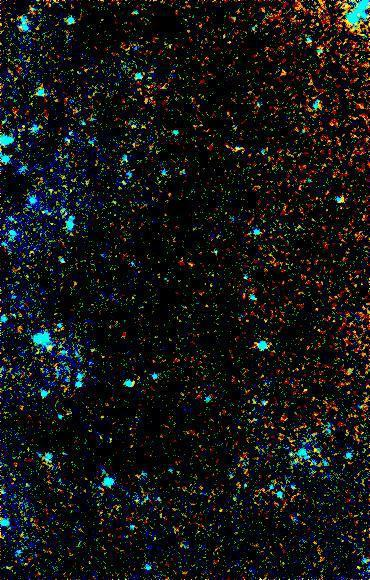star: (171, 247, 201, 277)
